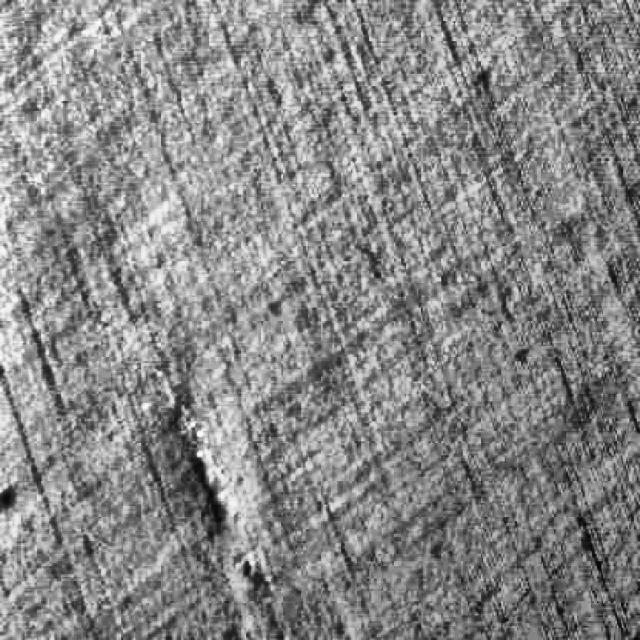thread_error: (141, 350, 280, 640)
